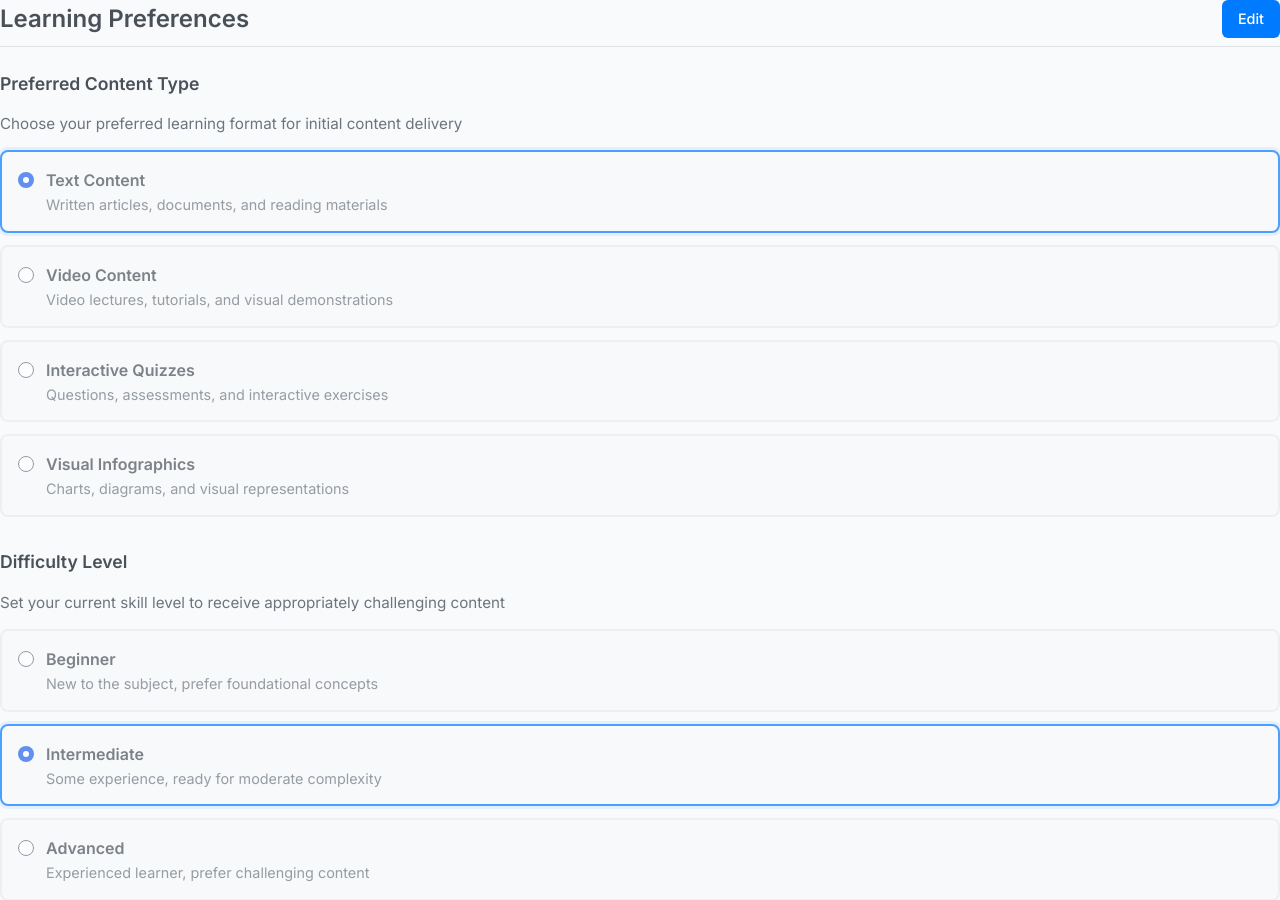
LearningPreferences › cancels editing and resets form data
Note: Enter edit mode
Click the button "Edit": coordinates (1251, 19) [1222,0,1279,38]
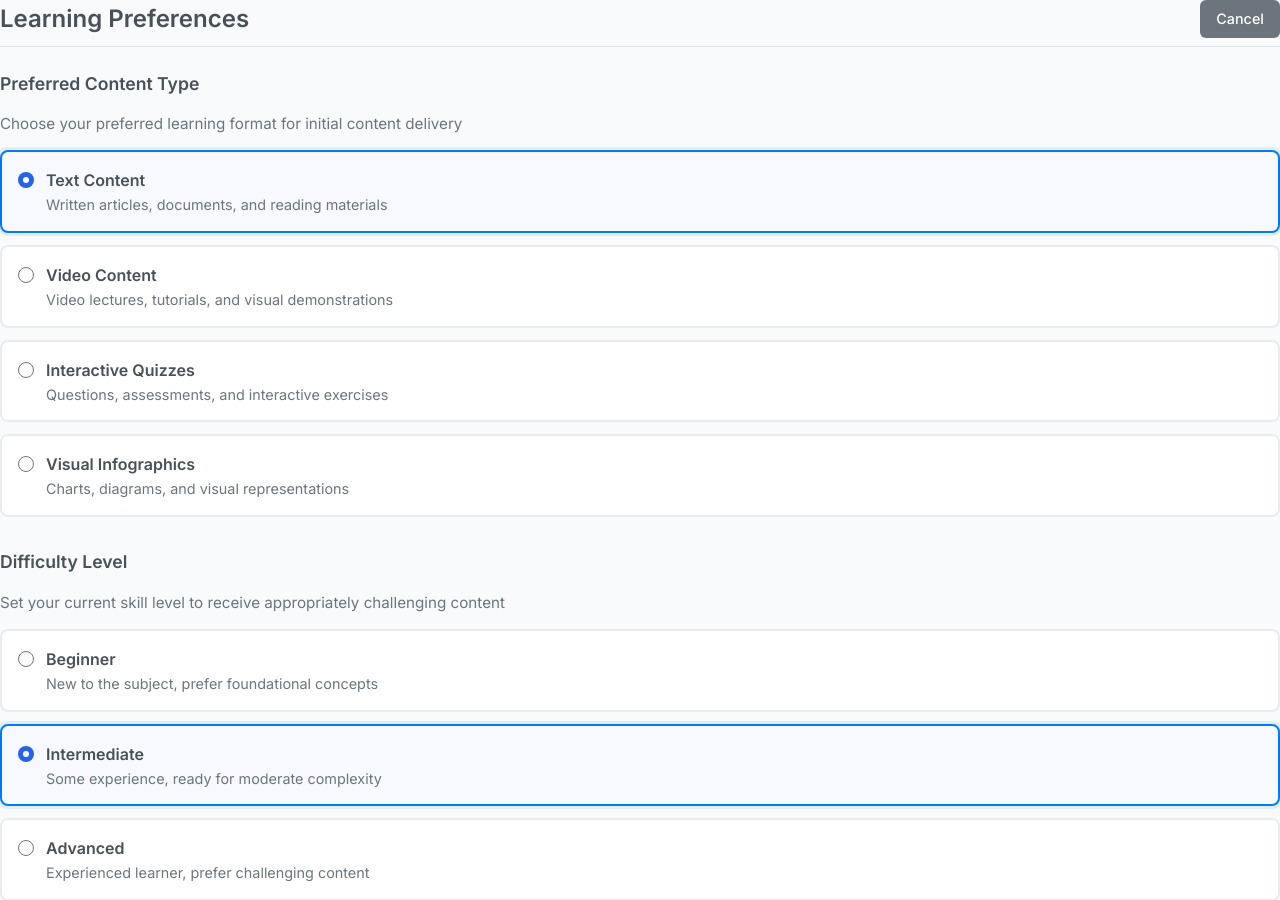
Note: Change to video content
Click the radio button labelled "Video Content": coordinates (26, 275) [18,267,34,283]
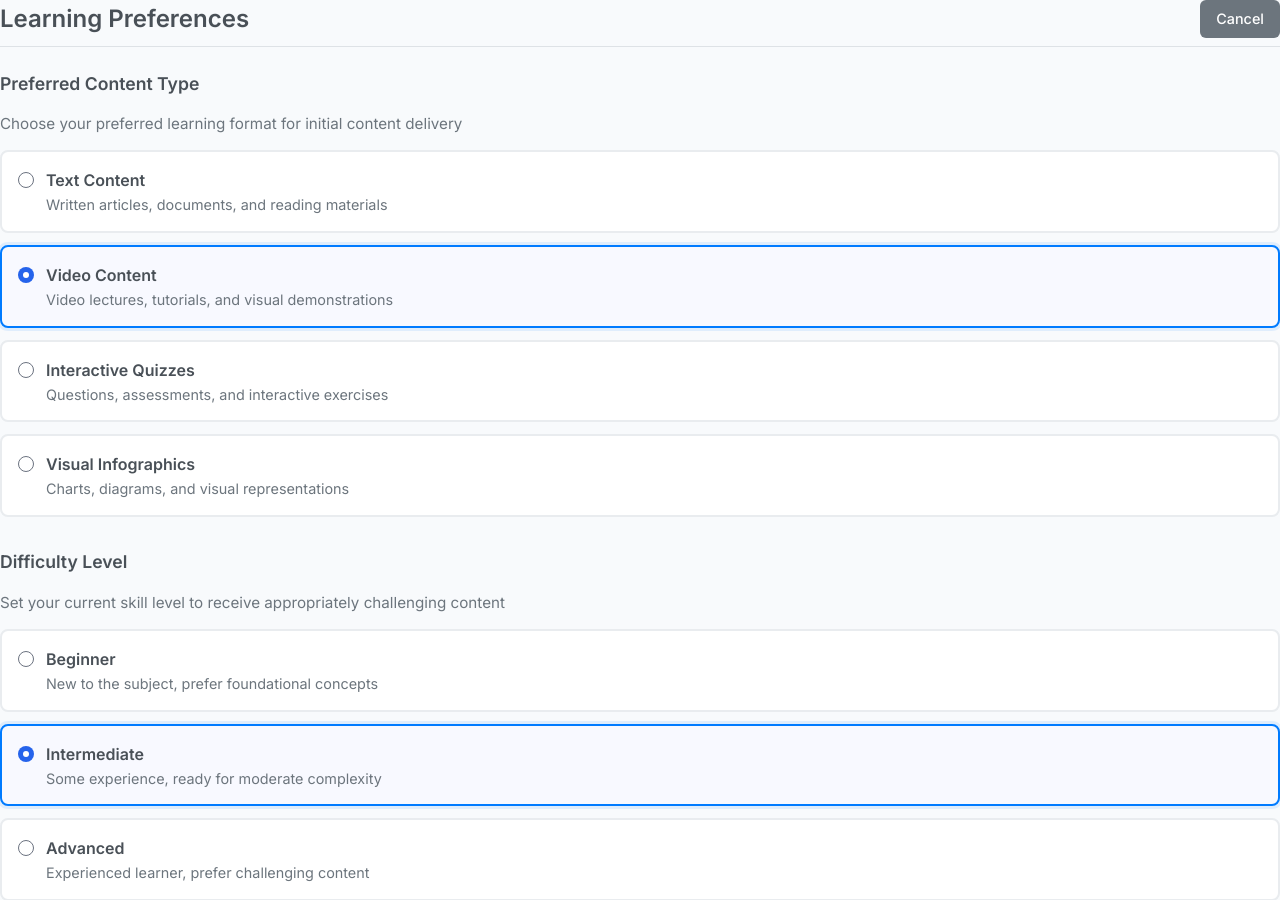
Note: Cancel editing
Click the button "Cancel": coordinates (1240, 19) [1200,0,1279,38]
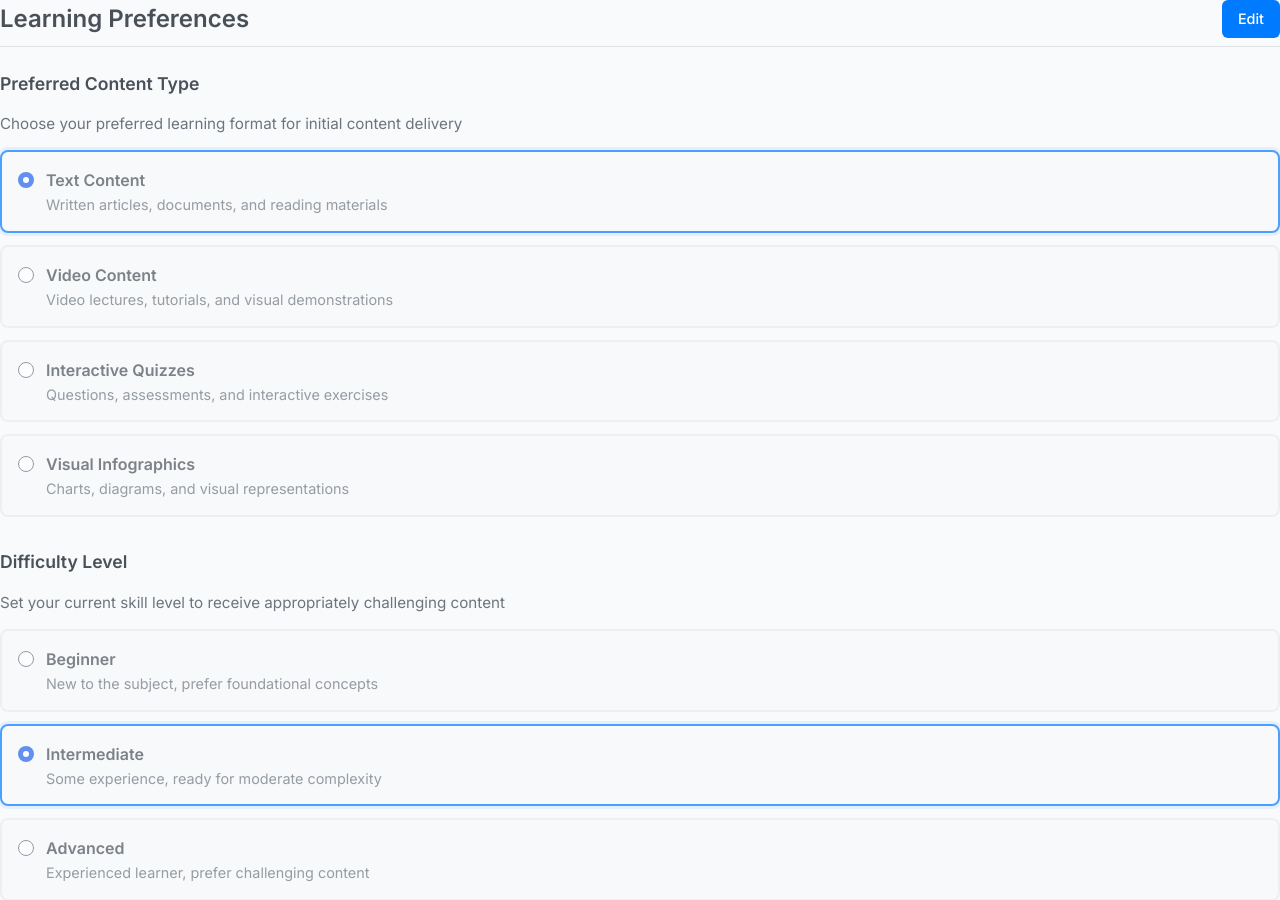
Expected: the radio button labelled "Text Content" is checked, [18,172,34,188]
